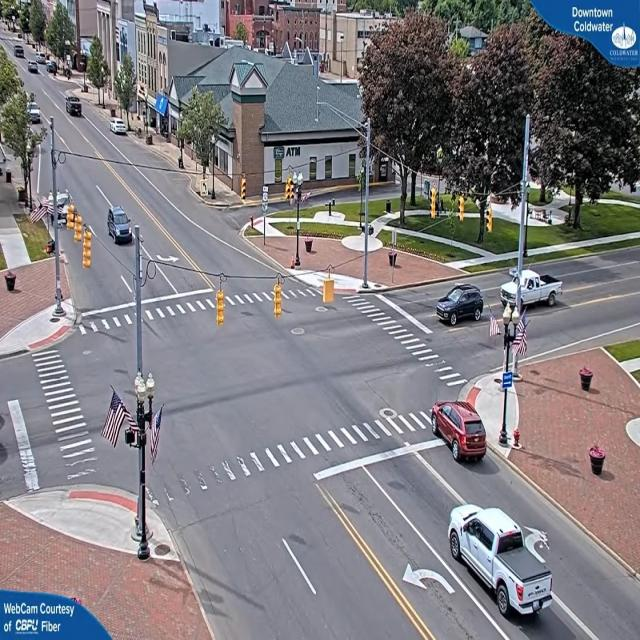car: (445, 502, 556, 627), (433, 400, 489, 465), (435, 283, 485, 327), (522, 270, 564, 311), (107, 208, 133, 245), (111, 120, 130, 138), (66, 98, 82, 116), (30, 105, 42, 124), (15, 46, 26, 60), (29, 62, 39, 74)
